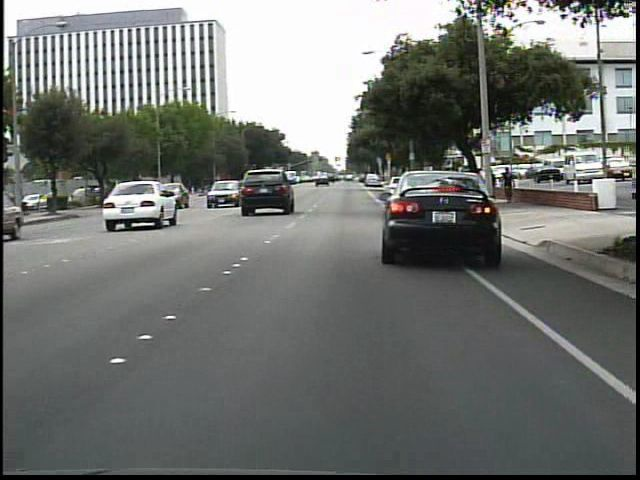person: (500, 166, 518, 207), (485, 168, 500, 204)
